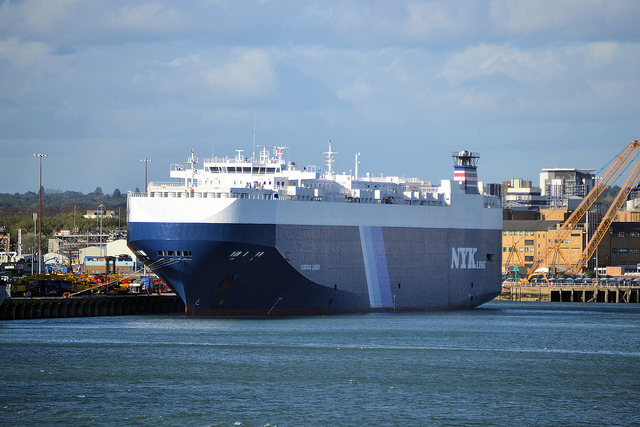PCC: (123, 140, 506, 320)
